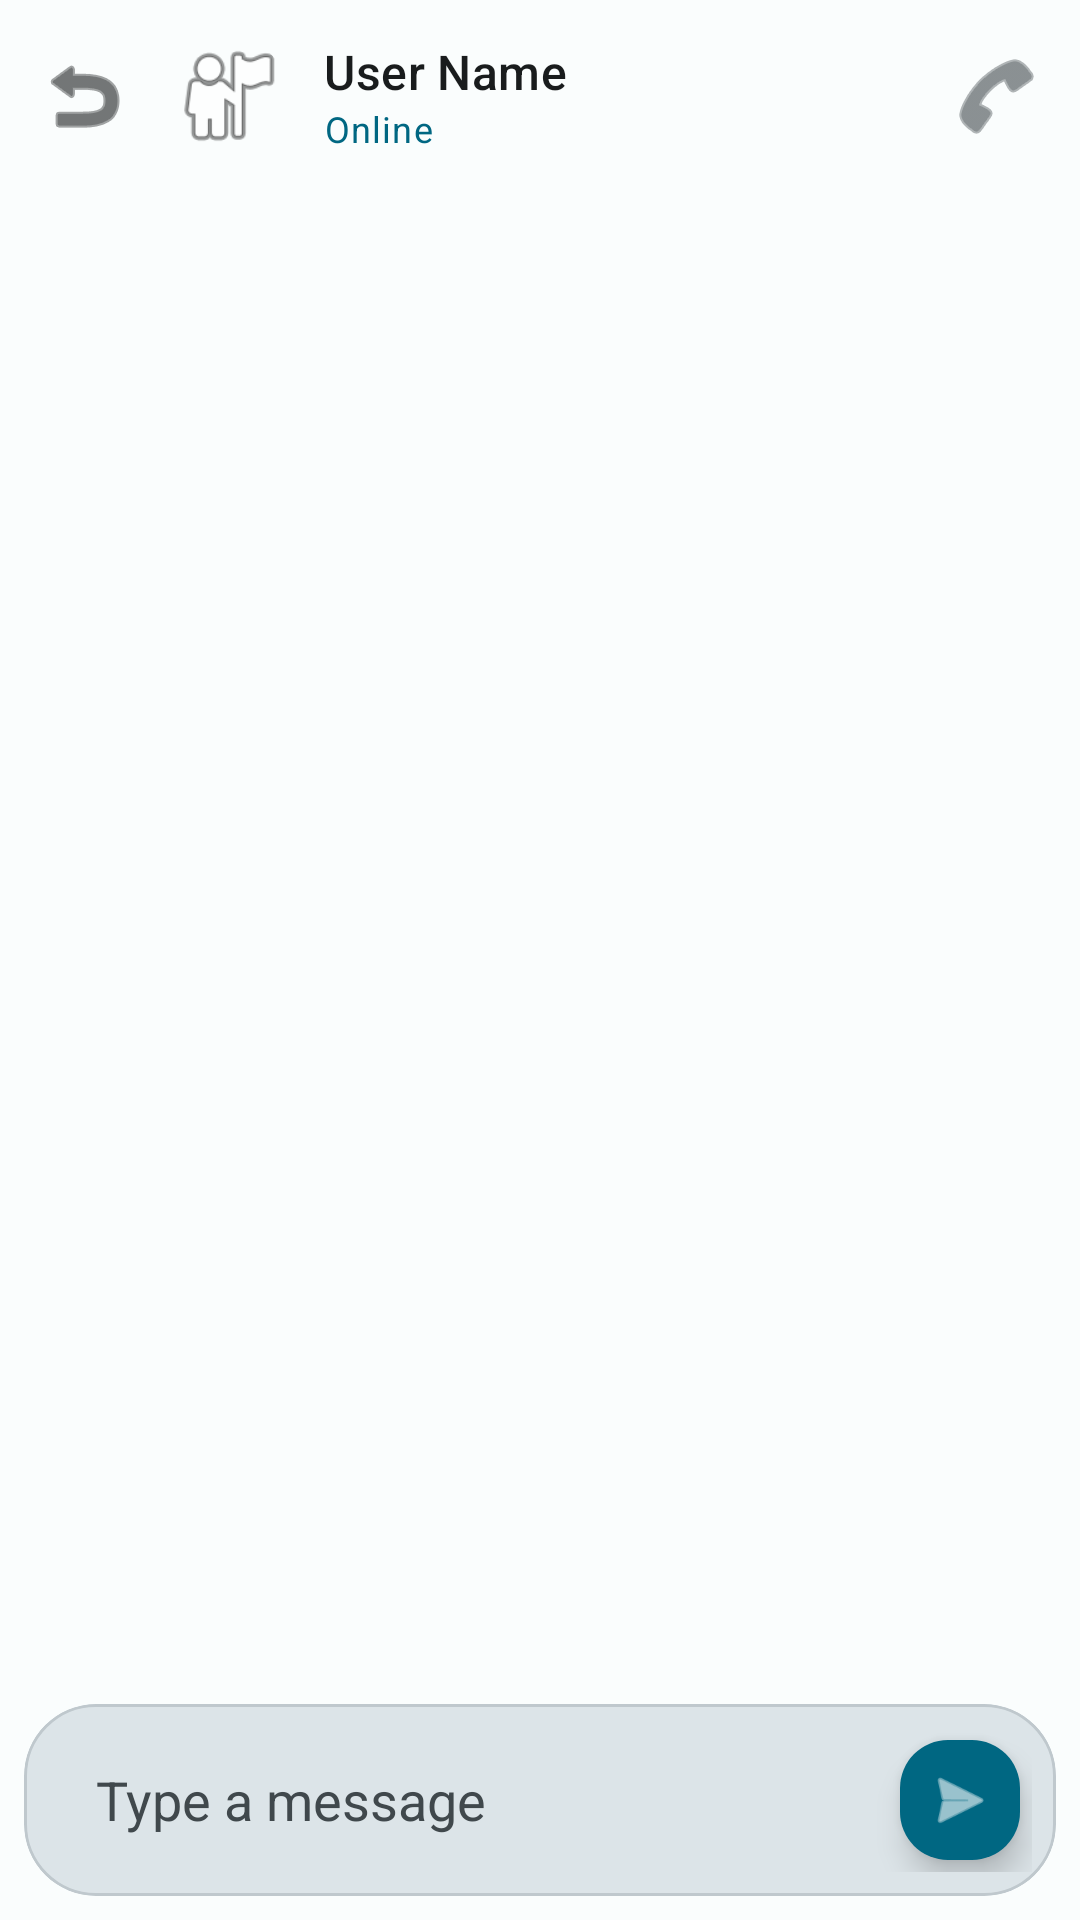

Where icons sit on this 1080 x 1920 app screen, as (x1, y1, x2, y2):
icon for send button: (900, 1740, 1022, 1872)
